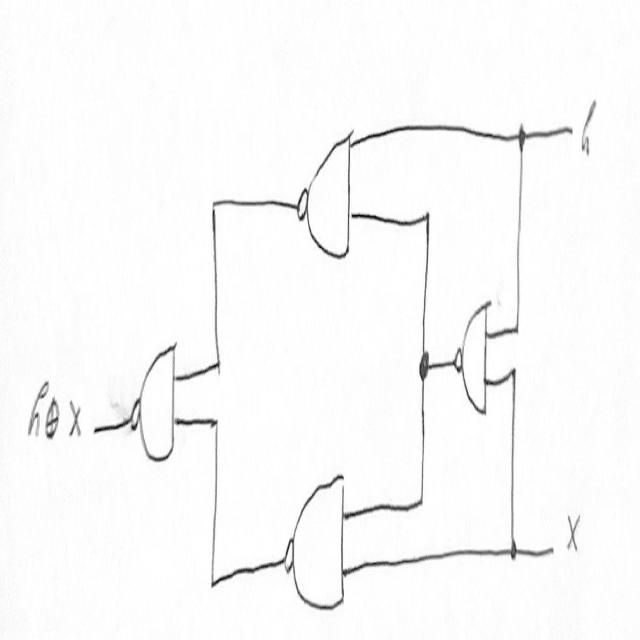NAND: (275, 465, 352, 624), (294, 116, 359, 277), (124, 338, 188, 473), (449, 288, 497, 426)
